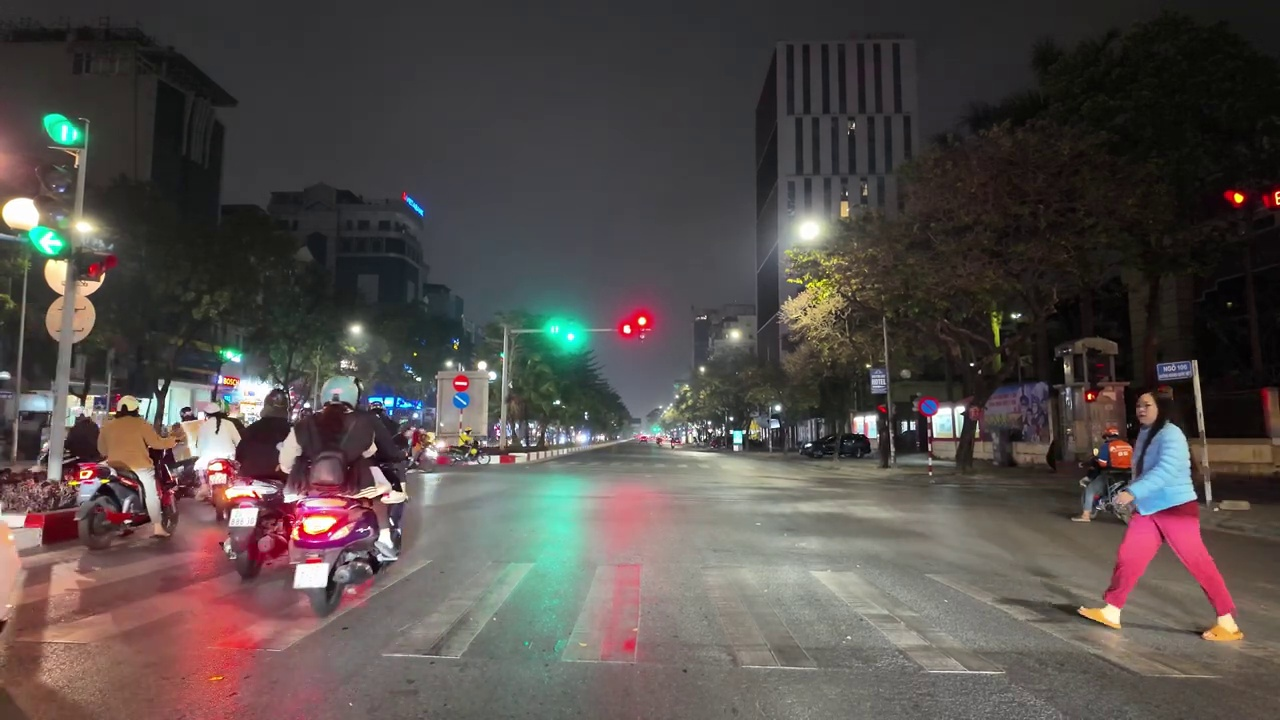acesa: (788, 215, 827, 249), (619, 309, 655, 342), (2, 198, 38, 231), (73, 215, 102, 240), (722, 324, 748, 348), (344, 321, 368, 345)
